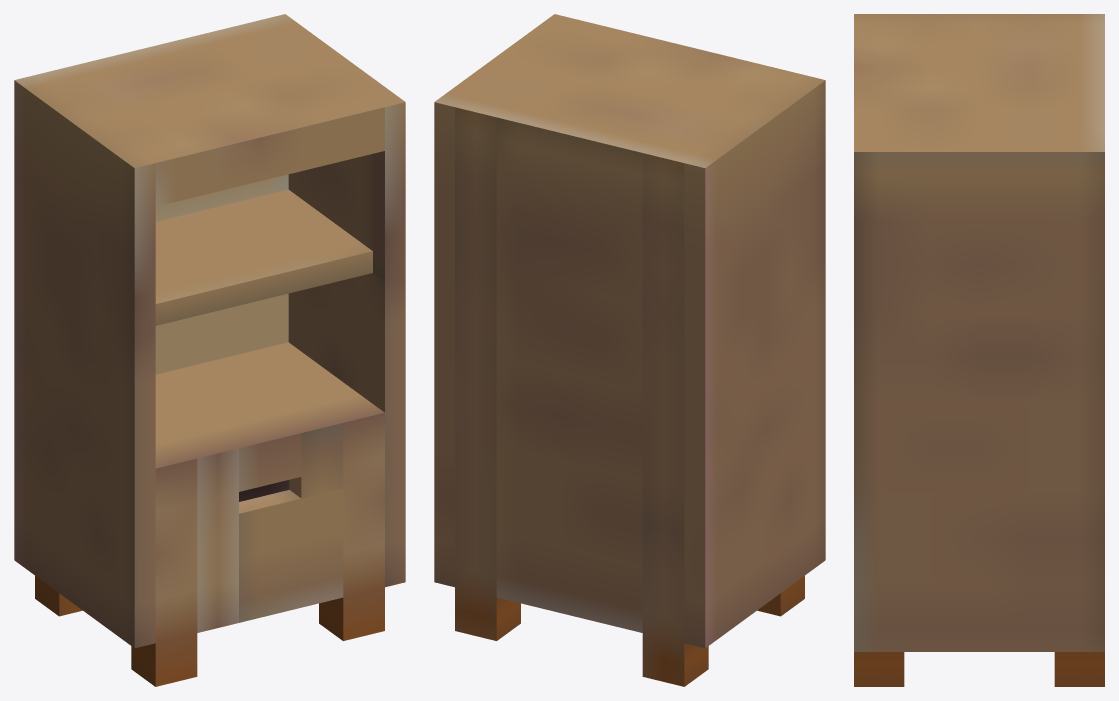
File: BookshelfWithSlidingCabinet_01.obj
The picture shows the model from 3 angles, left to right: view 1: azimuth 30°, elevation 25°; view 2: azimuth 150°, elevation 25°; view 3: azimuth 270°, elevation 25°; orthographic projection. The views are drawn at different scales.
Visible parts, largest first — view 1: BookshelfWithSlidingCabinet_01; view 2: BookshelfWithSlidingCabinet_01; view 3: BookshelfWithSlidingCabinet_01.
Part boxes in pixels (bbox=[...]): BookshelfWithSlidingCabinet_01: bbox=[14, 14, 405, 686]; BookshelfWithSlidingCabinet_01: bbox=[434, 14, 825, 686]; BookshelfWithSlidingCabinet_01: bbox=[854, 14, 1104, 686].
Size of the model in its own units: 0.65 by 1.2 by 0.5.
